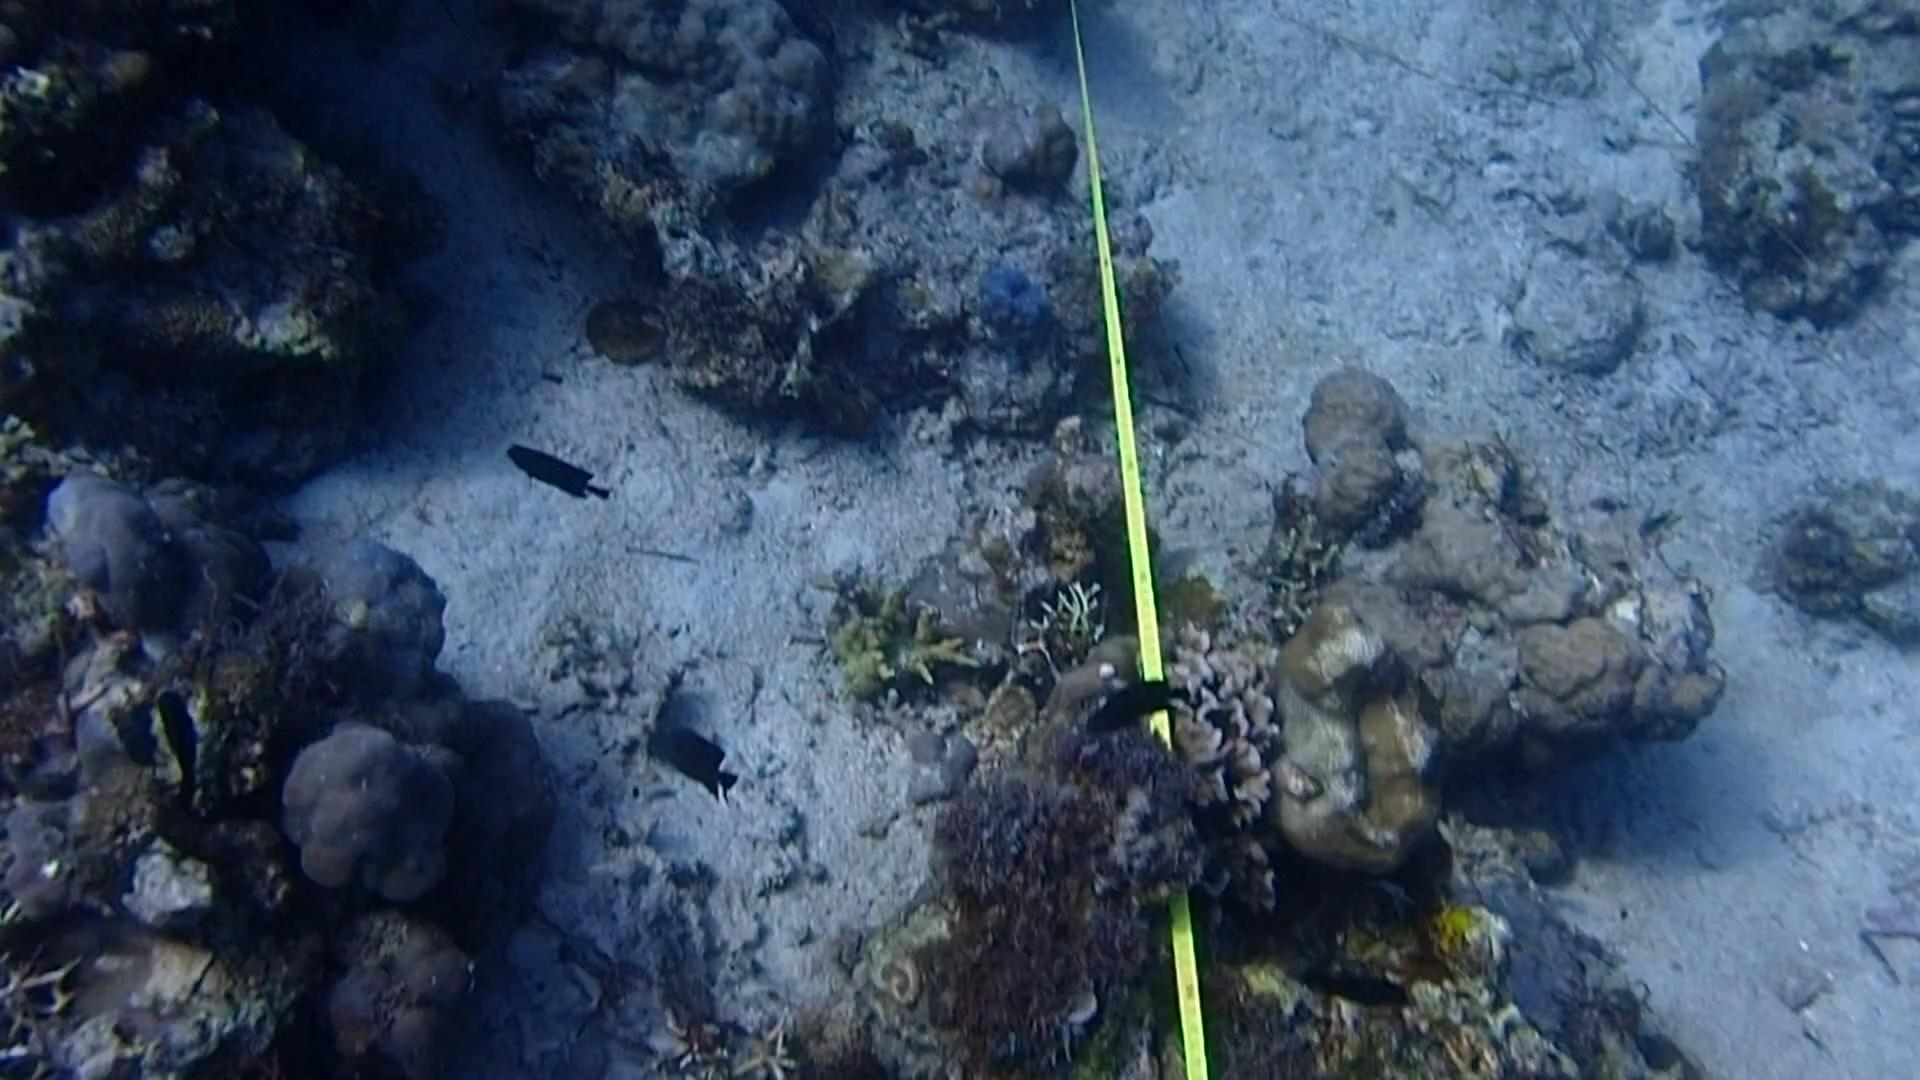Dark Fish: (498, 421, 605, 522), (136, 680, 219, 800), (638, 711, 740, 803), (1088, 678, 1189, 746)
Light Fish: (1629, 198, 1668, 253)
